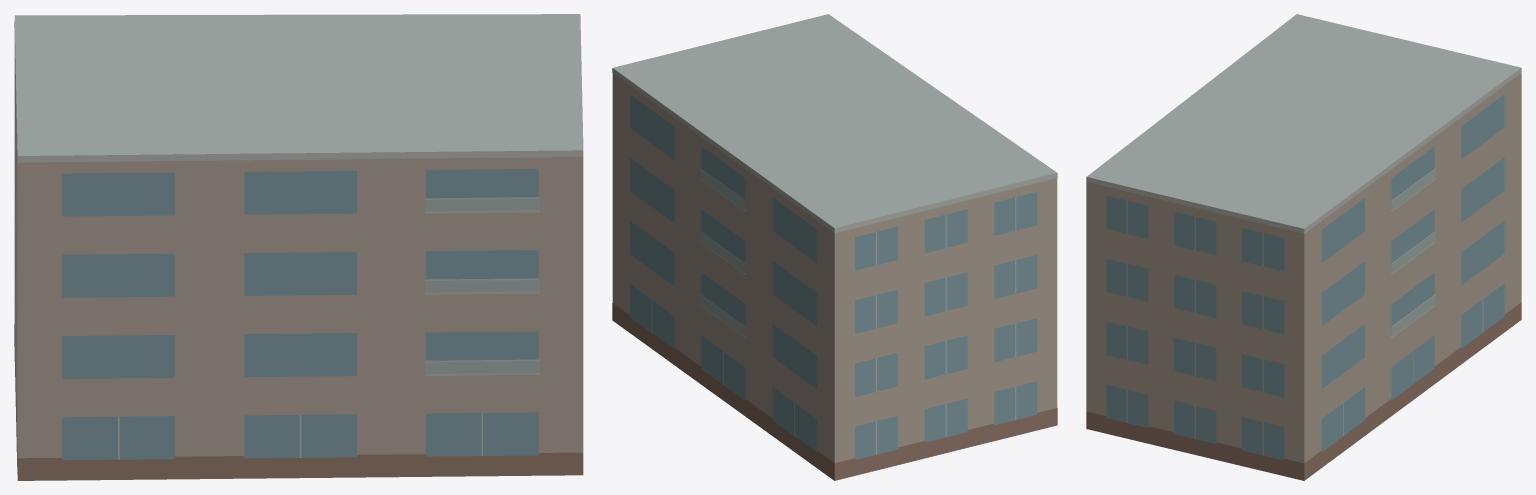
Rendered from survey-upis-32855374.glb.
The picture shows the model from 3 angles, left to right: view 1: azimuth 30°, elevation 25°; view 2: azimuth 150°, elevation 25°; view 3: azimuth 270°, elevation 25°; orthographic projection. The views are drawn at different scales.
Visible parts, largest first — view 1: survey-upis-32855374.tmp; view 2: survey-upis-32855374.tmp; view 3: survey-upis-32855374.tmp.
Boxes of the visible parts, bbox=[...] form: survey-upis-32855374.tmp: bbox=[14, 14, 583, 480]; survey-upis-32855374.tmp: bbox=[612, 14, 1057, 480]; survey-upis-32855374.tmp: bbox=[1086, 14, 1521, 480].
Bounding box in the file's own units: 22.32 × 12.2 × 19.1.
